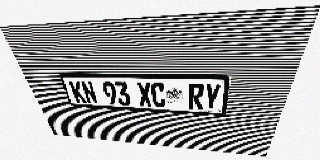3: (114, 82, 131, 106)
9: (101, 81, 119, 105)
C: (150, 82, 166, 107)
K: (68, 81, 87, 103)
N: (80, 81, 98, 104)
R: (188, 83, 205, 109)
X: (136, 82, 152, 107)
Y: (203, 84, 221, 110)
